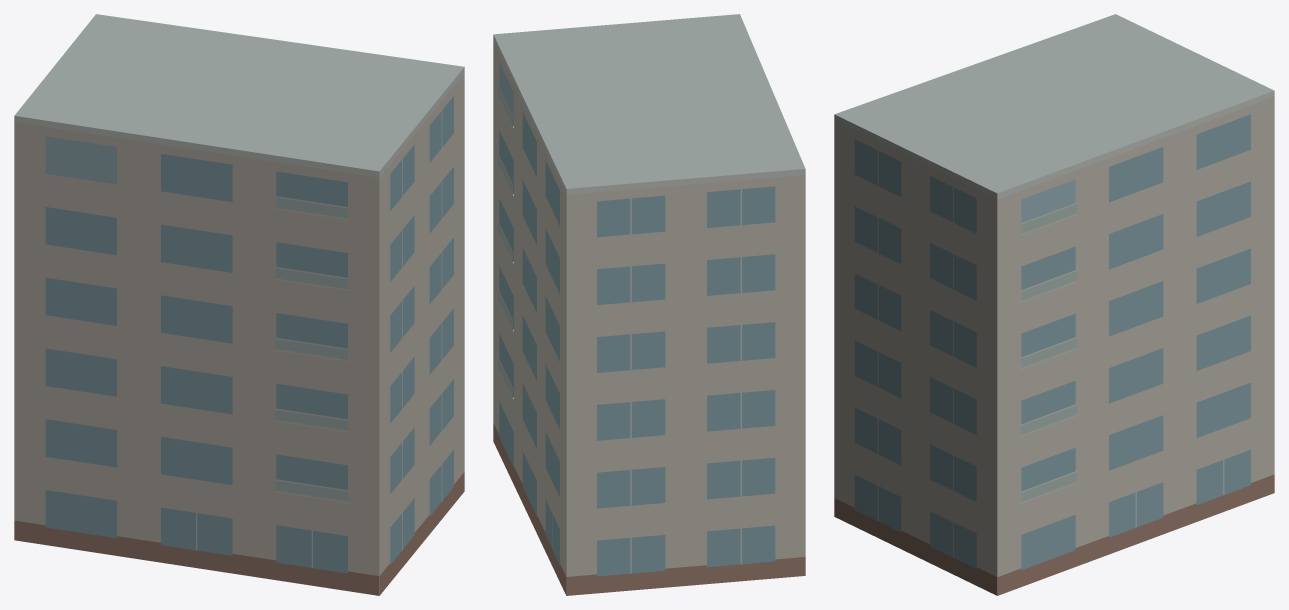
Rendered from survey-upis-32893353.glb.
3 renders of one model, left to right at view 1: azimuth 30°, elevation 25°; view 2: azimuth 150°, elevation 25°; view 3: azimuth 270°, elevation 25°, orthographic. The views are drawn at different scales.
Parts seen in each view (by area): view 1: survey-upis-32893353.tmp; view 2: survey-upis-32893353.tmp; view 3: survey-upis-32893353.tmp.
Part boxes in pixels (x1=…): survey-upis-32893353.tmp: x1=14, y1=14, x2=464, y2=595; survey-upis-32893353.tmp: x1=493, y1=14, x2=805, y2=595; survey-upis-32893353.tmp: x1=834, y1=14, x2=1274, y2=595.
Size of the model in its own units: 15.7 by 16.4 by 16.27.
